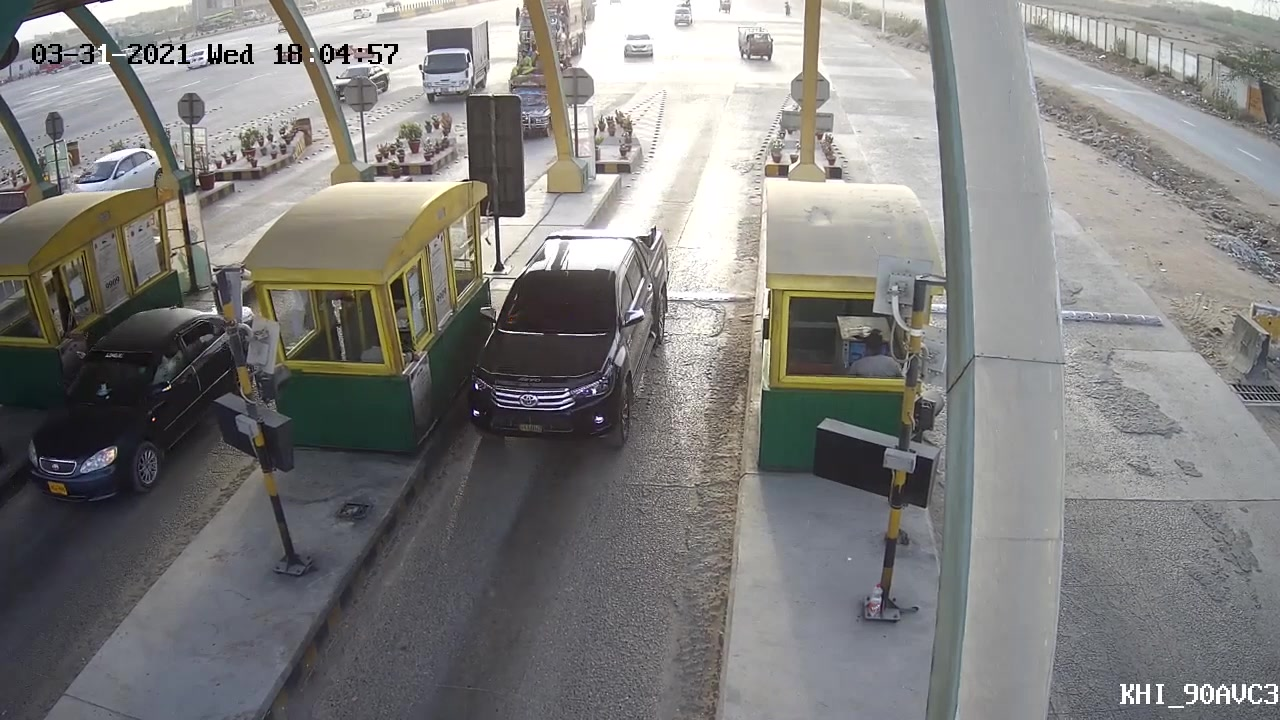F1: (460, 217, 677, 454)
